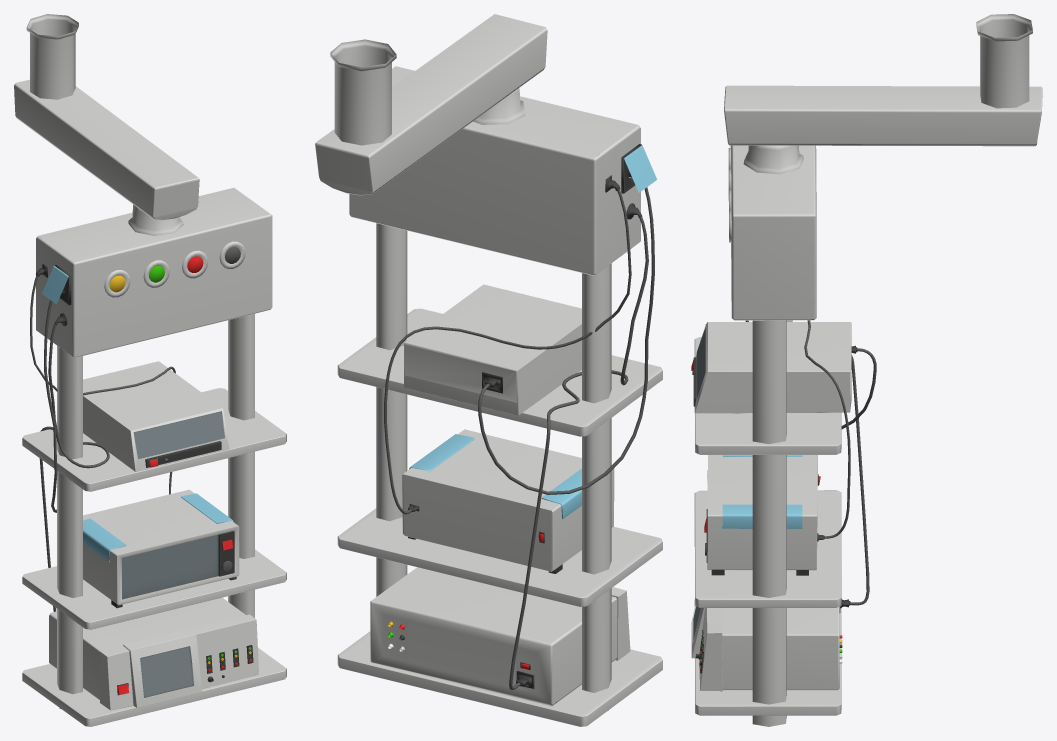
Rendered from ModutecPowerMaquet.fbx.
3 views of the same model, side by side, from view 1: azimuth 30°, elevation 25°; view 2: azimuth 150°, elevation 25°; view 3: azimuth 270°, elevation 25° (orthographic). The views are drawn at different scales.
Parts seen in each view (by area): view 1: ModutecPowerMaquet; view 2: ModutecPowerMaquet; view 3: ModutecPowerMaquet.
Part boxes in pixels (bbox=[...]): ModutecPowerMaquet: bbox=[14, 14, 286, 726]; ModutecPowerMaquet: bbox=[315, 14, 662, 726]; ModutecPowerMaquet: bbox=[691, 14, 1042, 726].
Size of the model in its own units: 86.09 by 219 by 107.
